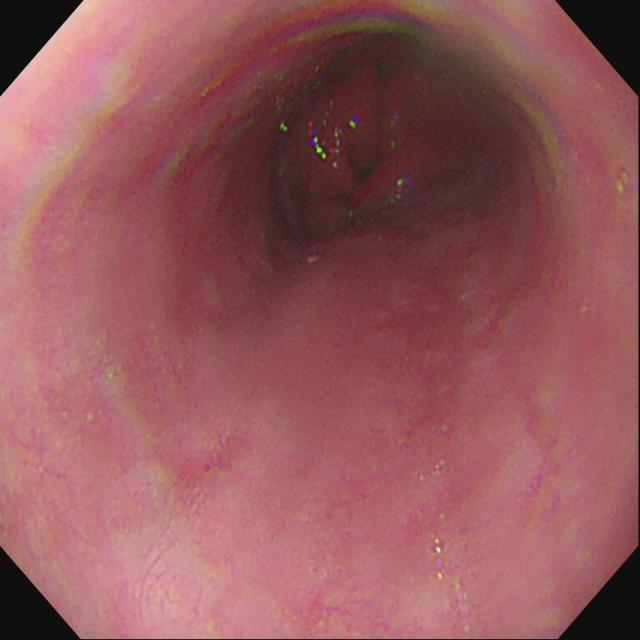I: (261, 42, 492, 266)
U: (309, 119, 329, 161)
